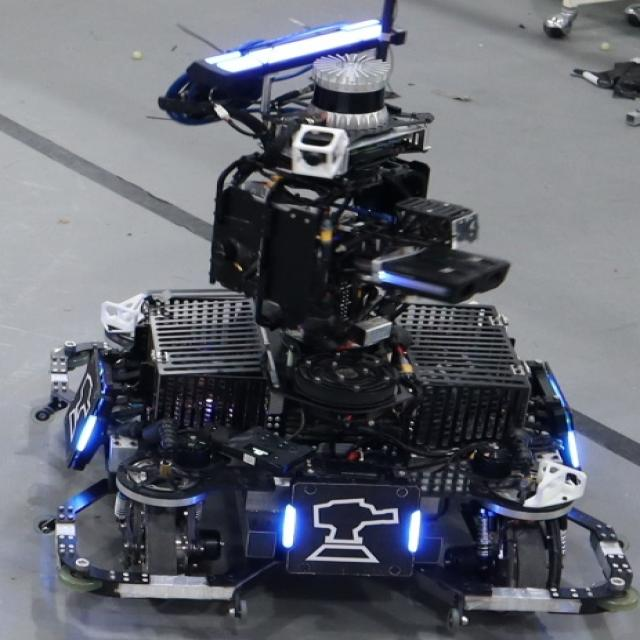Bs: (282, 480, 423, 582), (62, 348, 115, 468)
